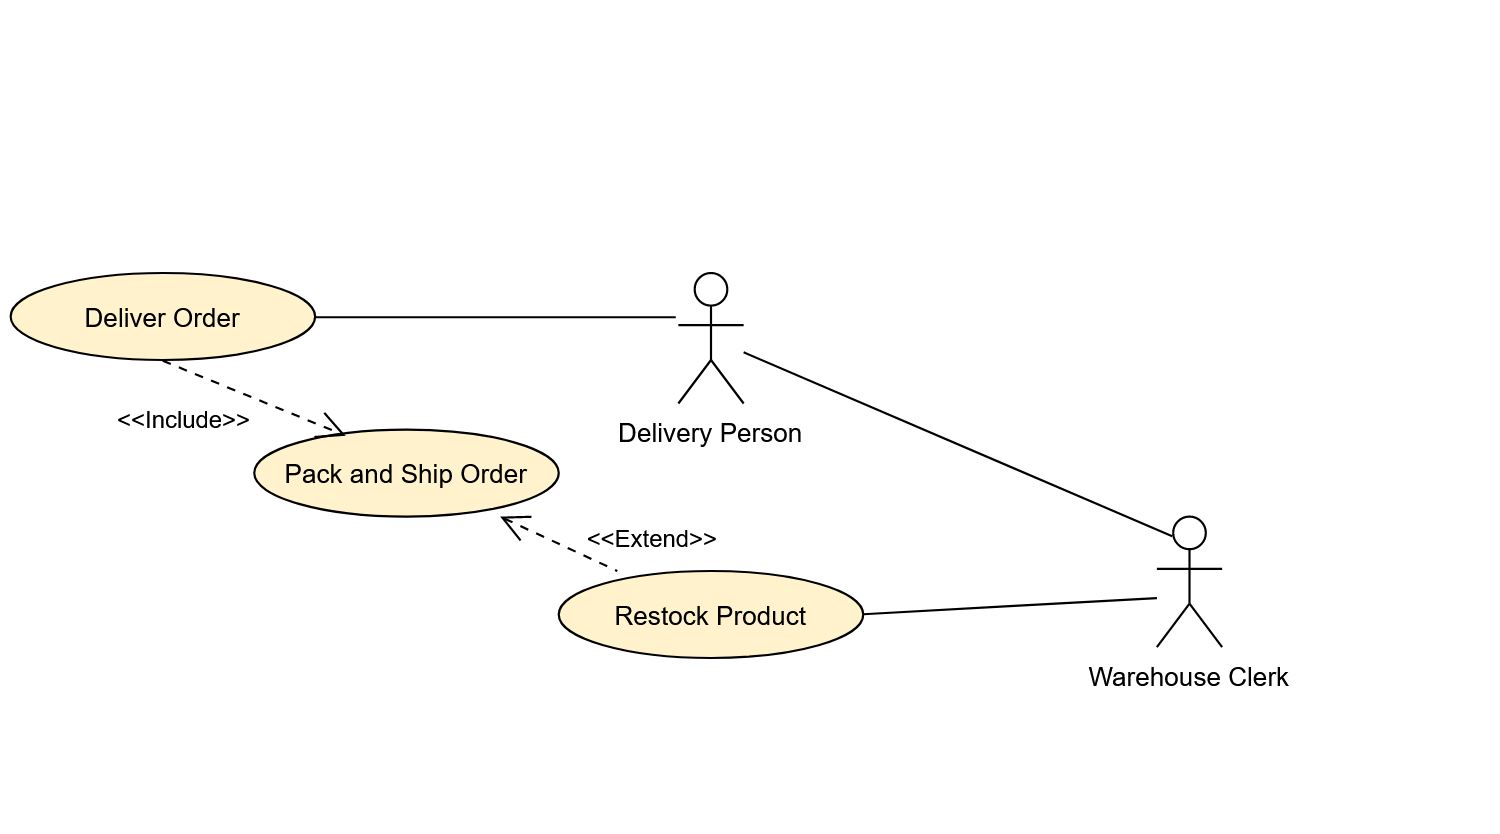actor: (674, 265, 749, 411), (1159, 513, 1226, 648)
association: (742, 347, 1169, 538), (315, 294, 676, 339), (168, 361, 346, 440), (864, 593, 1160, 621), (500, 511, 624, 576)
text: (1063, 654, 1318, 697), (284, 460, 526, 492), (616, 415, 809, 452), (612, 600, 810, 632), (80, 304, 242, 337), (110, 404, 257, 435), (580, 524, 729, 552)
use_case: (554, 567, 866, 661), (11, 270, 318, 364), (253, 427, 559, 521)
